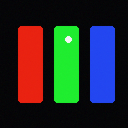0 point: (65, 36, 71, 42)
